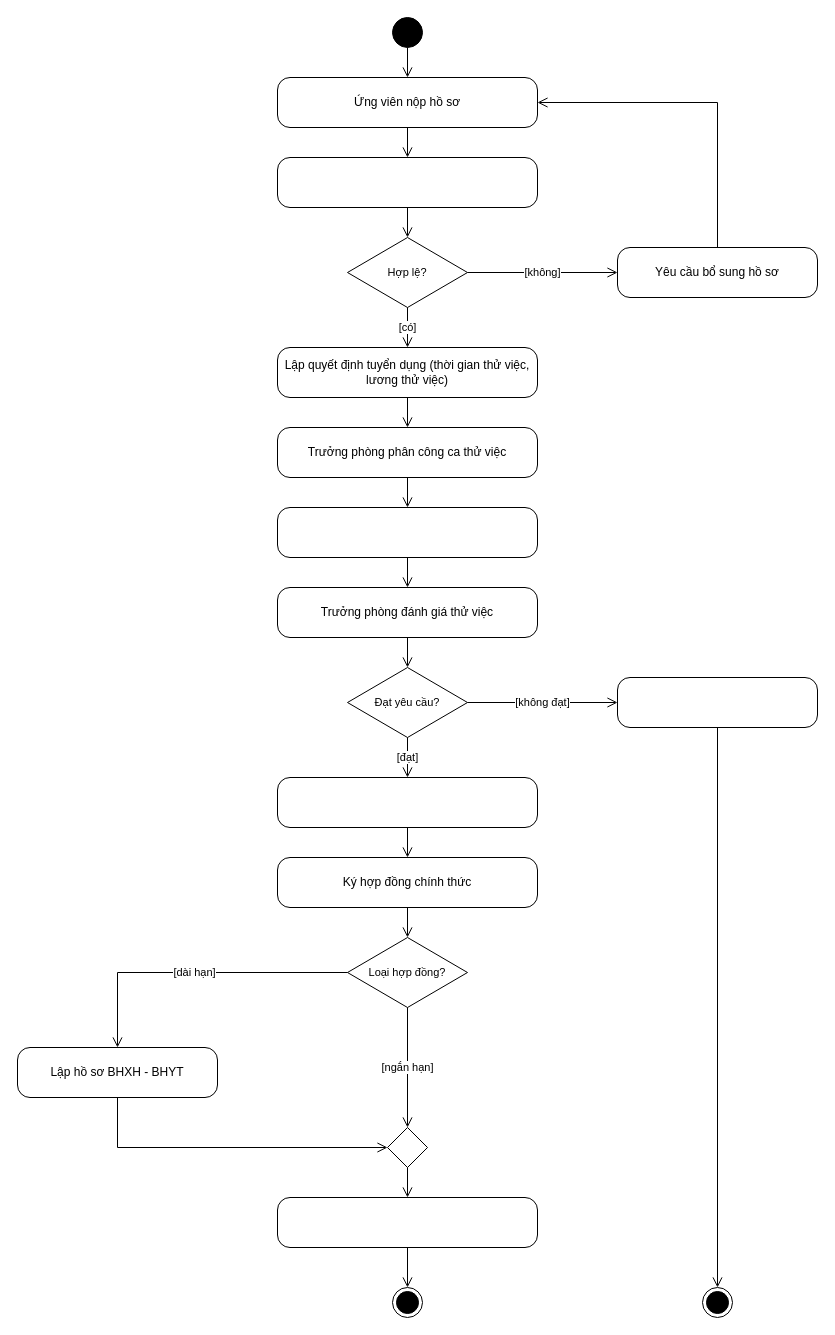
Image size: 835x1335. Some labels were removed from this diagram. Here are the shapes that lost their labels. From the top down, the centre of each, then its label:
point 407,182: HCNS kiểm tra hồ sơ
point 407,532: Nhân viên thử việc, ban chấm công chấm công
point 717,702: Chấm dứt thử việc
point 407,802: Lập quyết định chức vụ và quyết định lương
point 407,1222: Cập nhật trạng thái "Đang làm"
